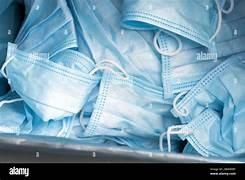Mask: (69, 0, 177, 148), (122, 0, 241, 98), (69, 0, 161, 85), (169, 53, 244, 156), (2, 43, 99, 120), (83, 71, 178, 149), (122, 0, 224, 46), (15, 0, 76, 56), (20, 105, 75, 136), (0, 0, 23, 66), (0, 92, 25, 133), (182, 143, 199, 155)
